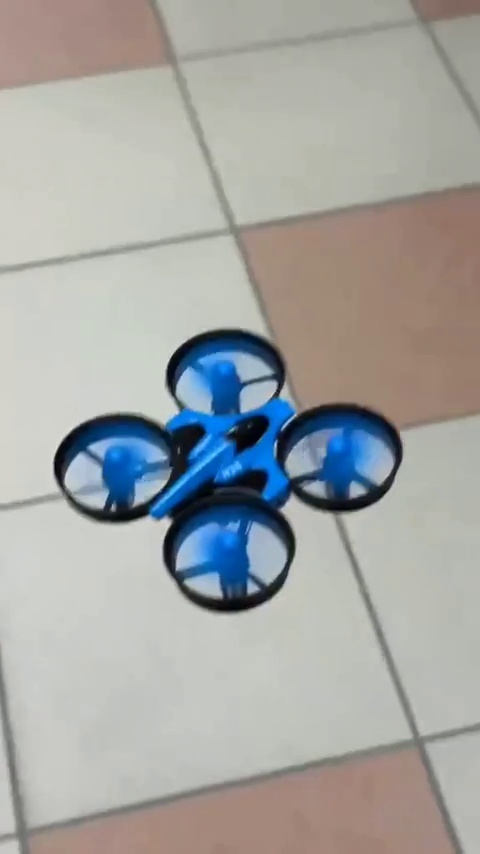drone: (62, 331, 409, 610)
